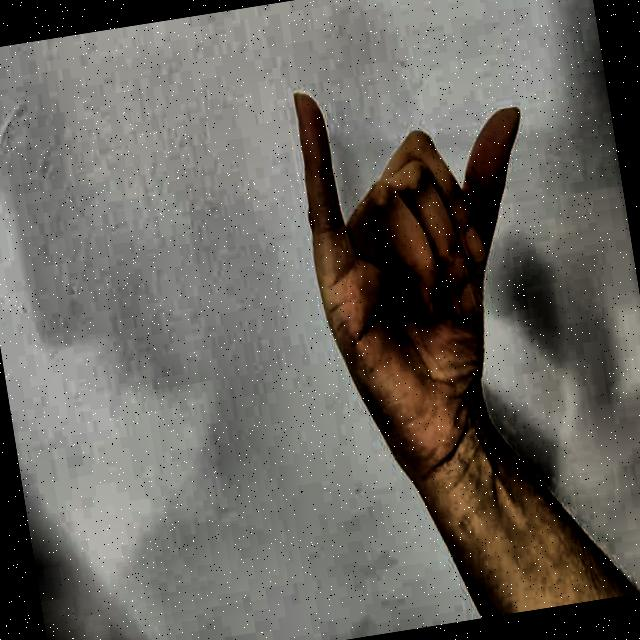Oi: (252, 32, 596, 490)
